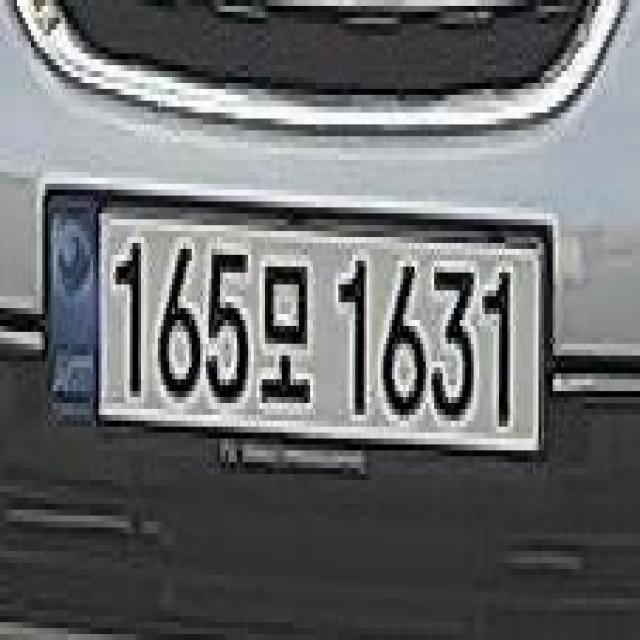illegal_plate: (42, 181, 550, 490)
